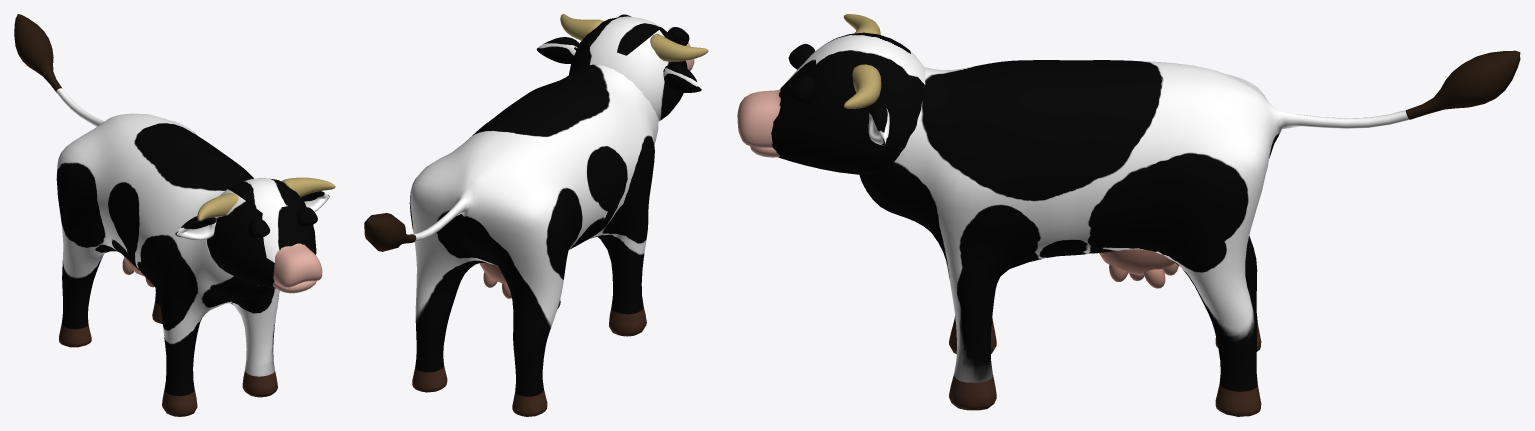
The model's file is Cow.dae.
3 renders of one model, left to right at view 1: azimuth 30°, elevation 25°; view 2: azimuth 150°, elevation 25°; view 3: azimuth 270°, elevation 25°, orthographic. The views are drawn at different scales.
Parts seen in each view (by area): view 1: Cow, Eyes_Cow; view 2: Cow; view 3: Cow, Eyes_Cow.
Part boxes in pixels (x1,y1,x2,y2): Cow: (14,14,335,416); Eyes_Cow: (248,207,317,238); Cow: (364,14,708,416); Cow: (737,14,1520,416); Eyes_Cow: (788,44,815,103).
Bounding box in the file's own units: 0.9302 × 3.02 × 1.45.
Materials: 7 (1 with a texture image).
